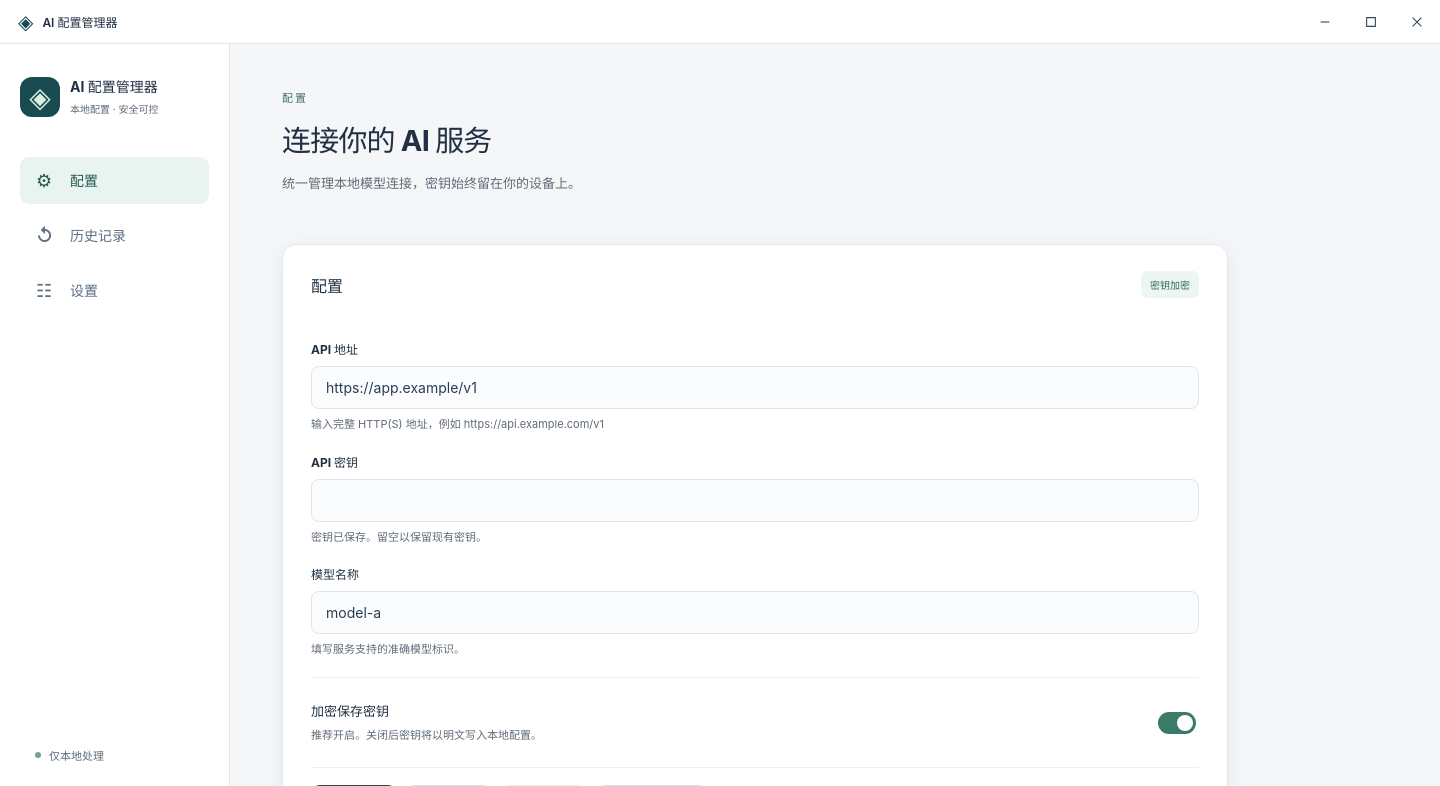
Test case: config badge and encryption preference › submits plaintext and clears the typed key after saving
The image size is (1440, 786).
In the password field labelled "API 密钥": (755, 500) [311,479,1199,522], type "synthetic-plaintext-key"
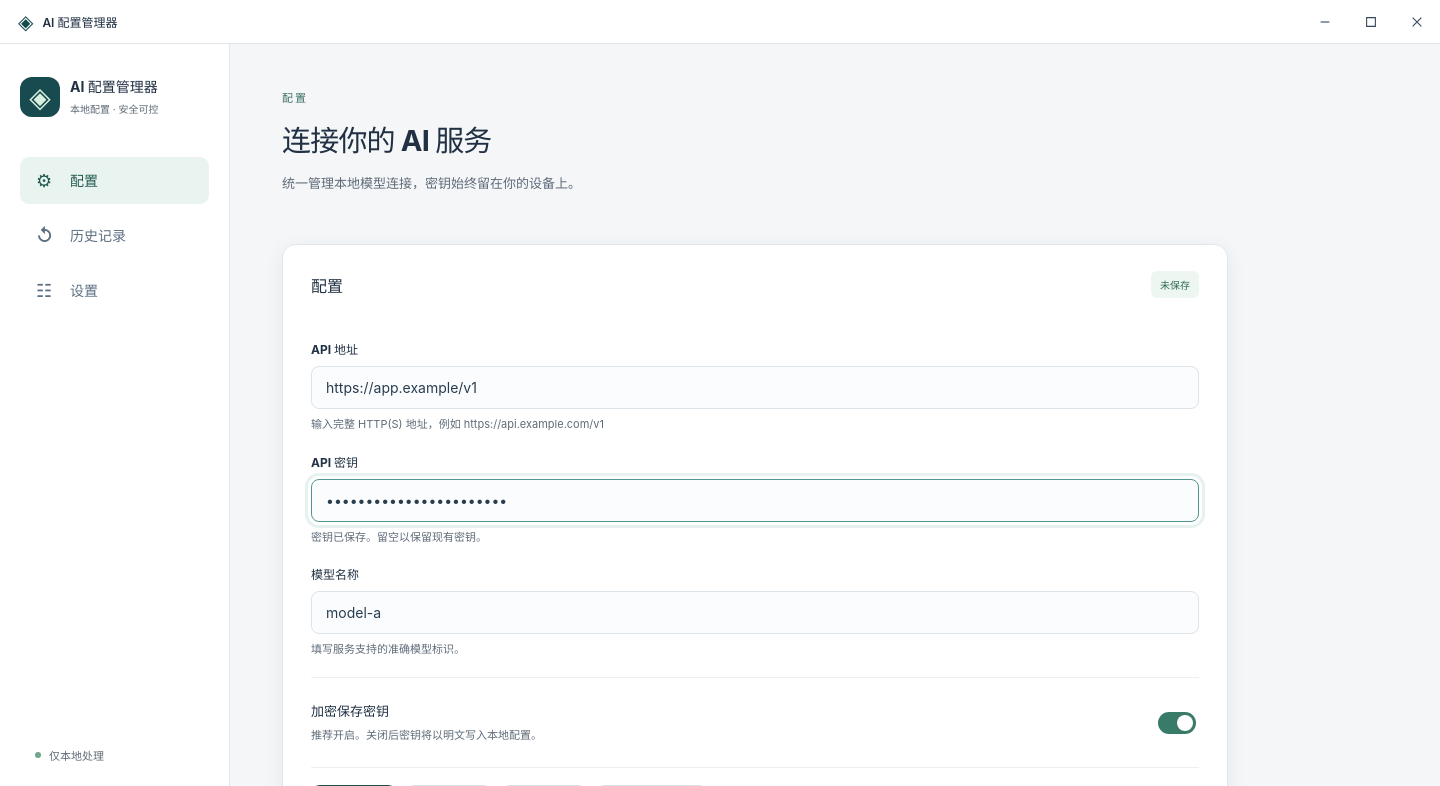
Click the switch labelled "加密保存密钥 推荐开启。关闭后密钥将以明文写入本地配置。": (1177, 723) [1158,712,1196,734]
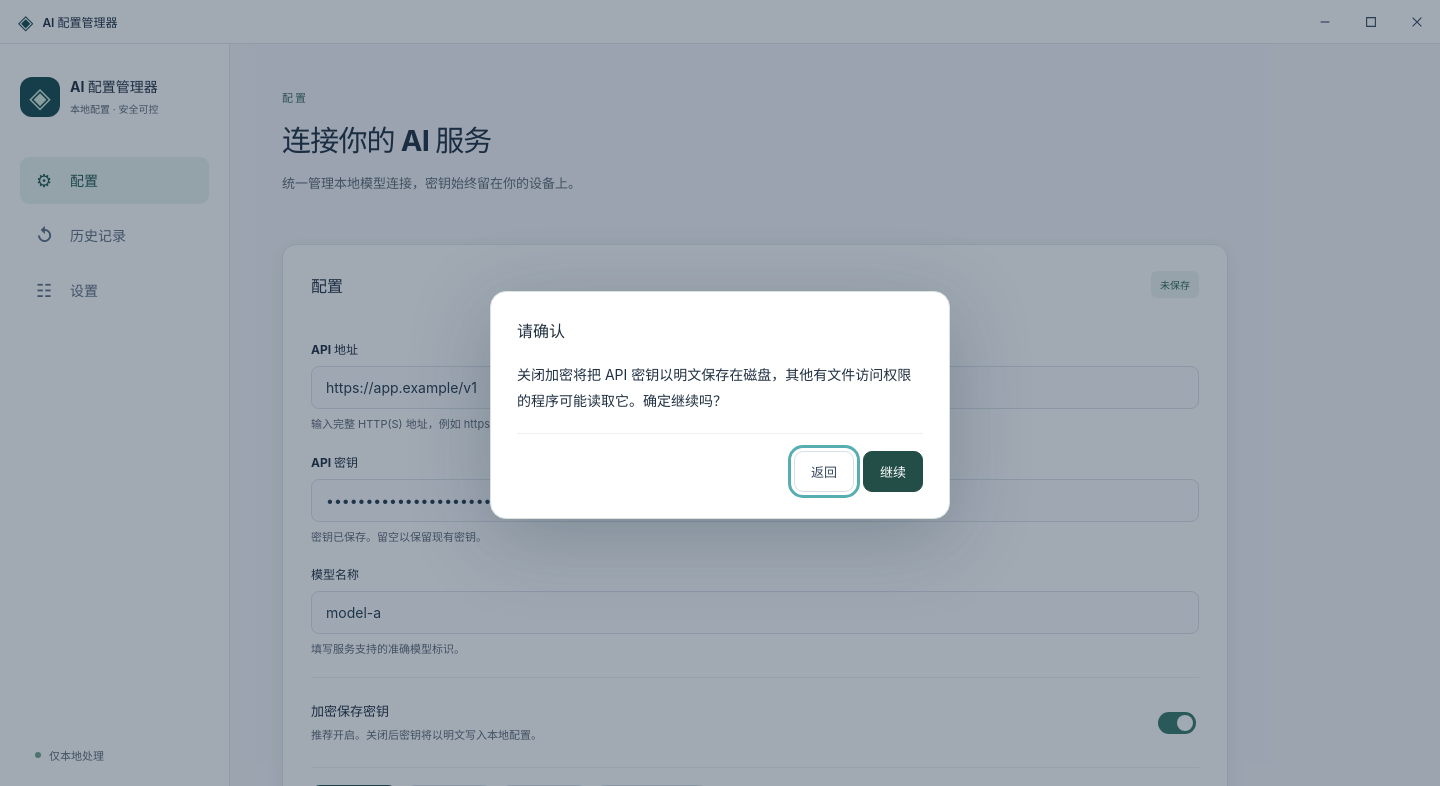
Click the button "继续": (893, 471) [863,451,923,492]
(page scrolled)
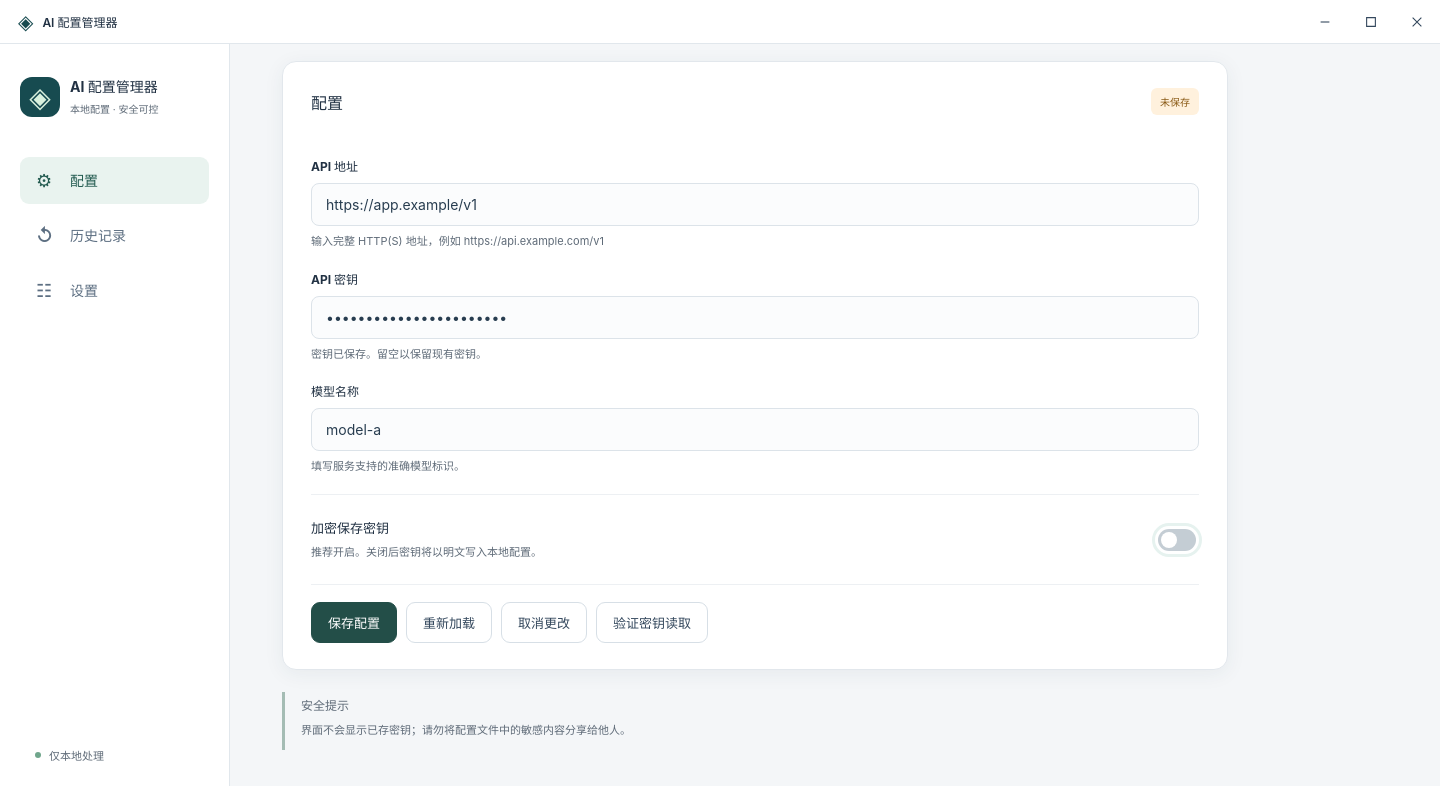
Click the button "保存配置": (354, 623) [311,602,397,644]
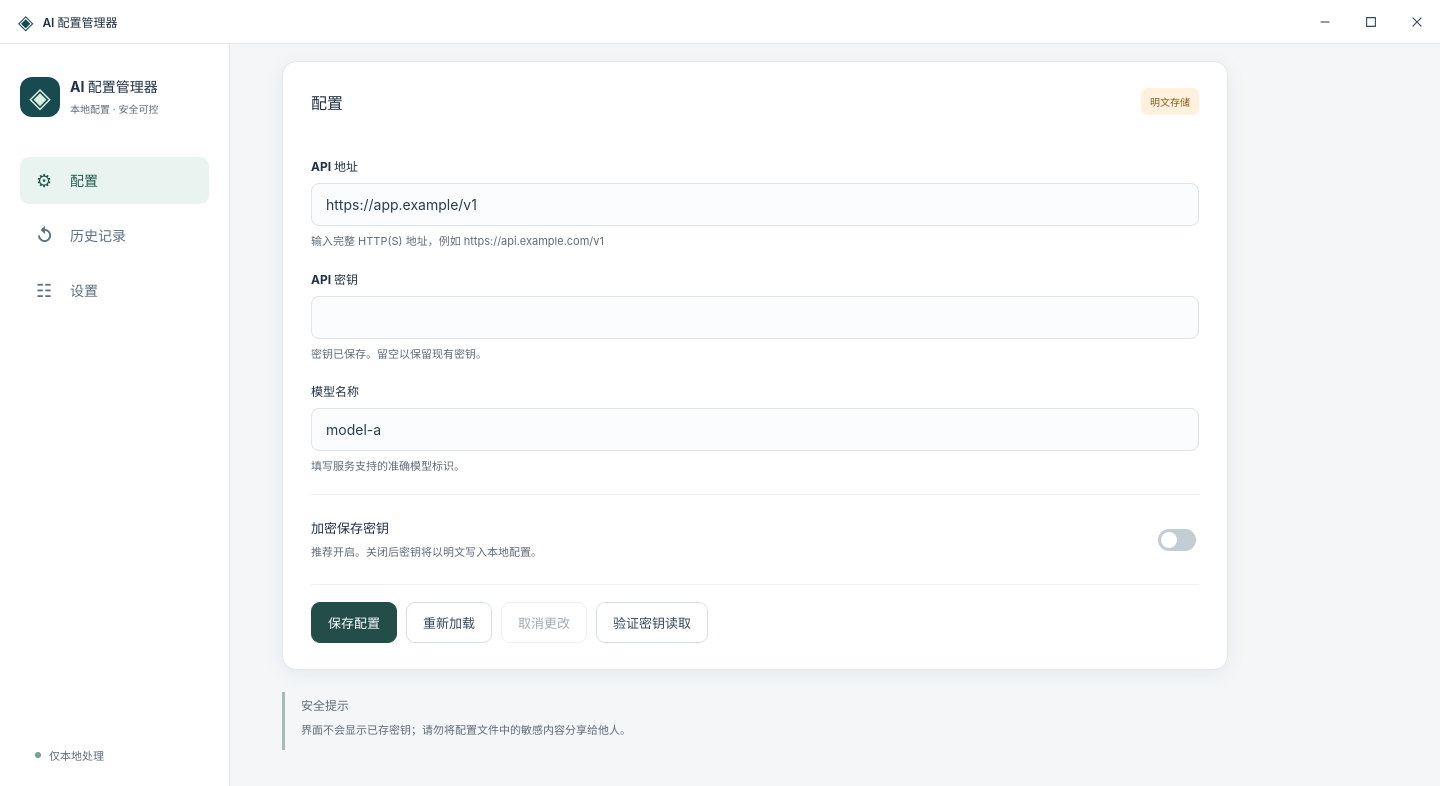
Expected: the password field labelled "API 密钥" is empty, [311,296,1199,339]
Expected: the text with class "badge" reads "明文存储", [1150,96,1190,108]
Expected: the button "取消更改" is disabled, [501,602,587,644]
